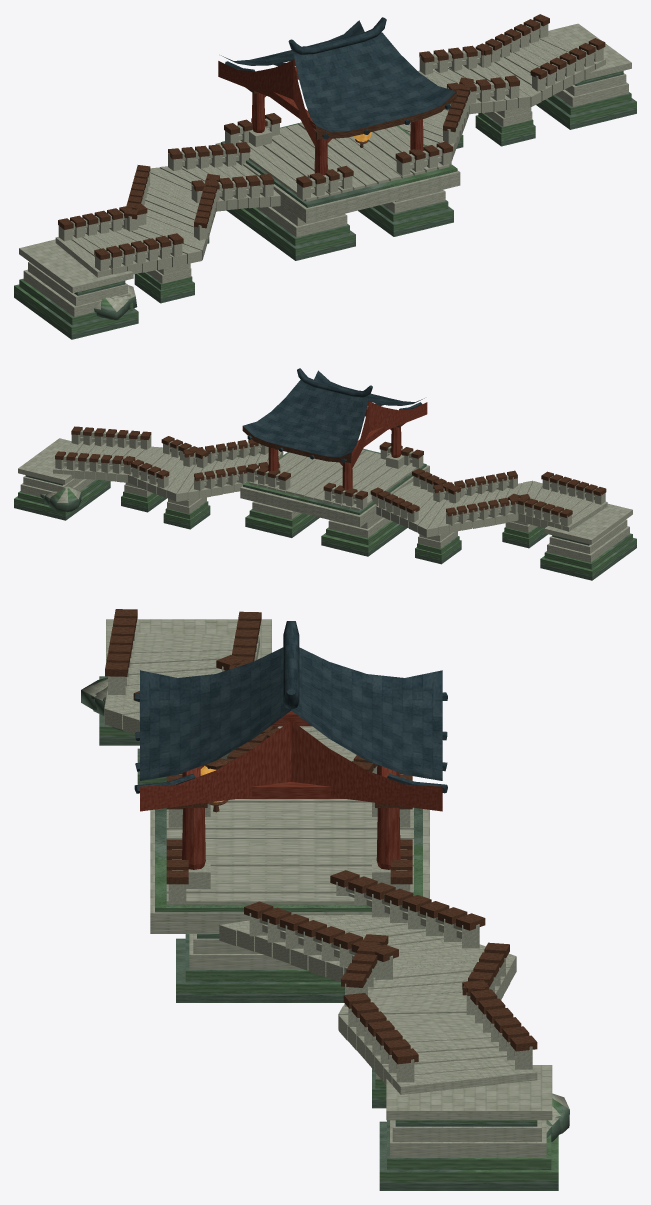
File: jiangnan_zigzag_bridge_mid.glb
3 views of the same model, one above another, from view 1: azimuth 30°, elevation 25°; view 2: azimuth 150°, elevation 25°; view 3: azimuth 270°, elevation 25° (orthographic). The views are drawn at different scales.
Parts seen in each view (by area): view 1: jiangnan_zigzag_bridge_mid; view 2: jiangnan_zigzag_bridge_mid; view 3: jiangnan_zigzag_bridge_mid.
Boxes of the visible parts, box(x1,y1,x2,y2) form: jiangnan_zigzag_bridge_mid: box(14, 14, 636, 339); jiangnan_zigzag_bridge_mid: box(14, 368, 636, 580); jiangnan_zigzag_bridge_mid: box(81, 609, 569, 1190).
Bounding box in the file's own units: 24 × 6.5 × 10.
Materials: 2 (2 with a texture image).
